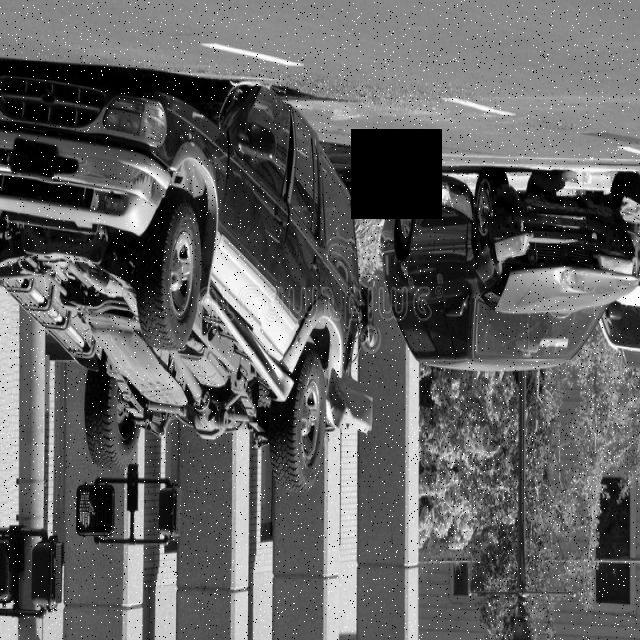severe: (0, 68, 374, 483)
